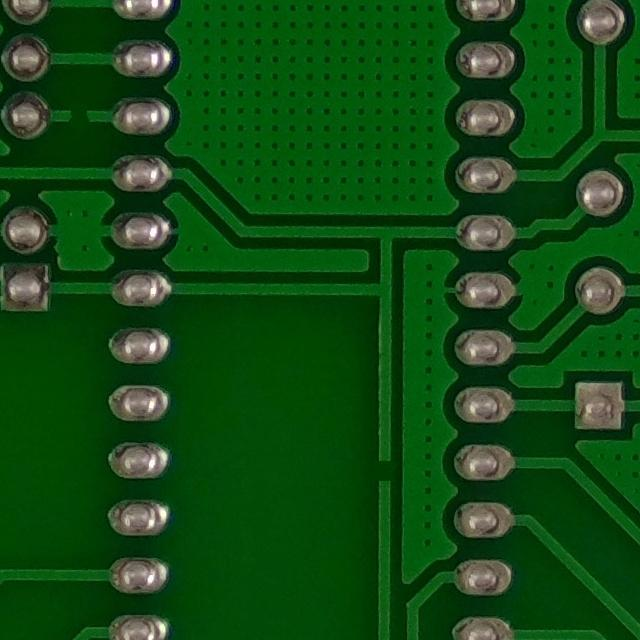open_circuit: (54, 95, 99, 136), (362, 449, 403, 491)
